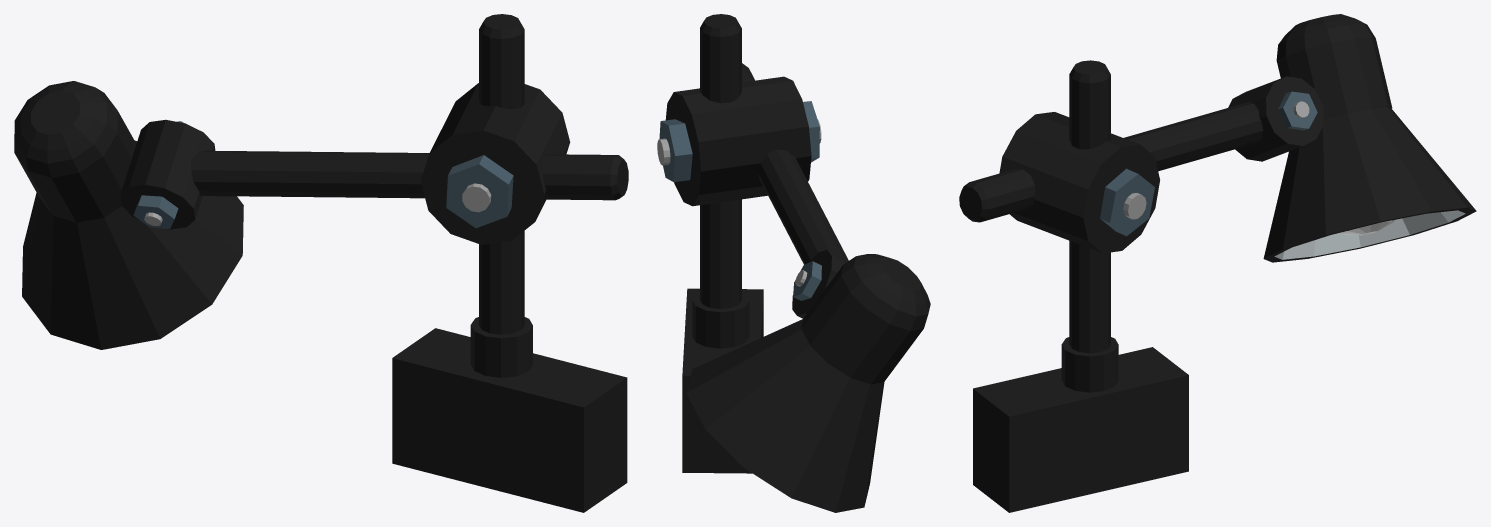
Rendered from group235934381_lev3.003.glb.
3 renders of one model, left to right at view 1: azimuth 30°, elevation 25°; view 2: azimuth 150°, elevation 25°; view 3: azimuth 270°, elevation 25°, orthographic. The views are drawn at different scales.
Parts seen in each view (by area): view 1: group235934381_lev3.003; view 2: group235934381_lev3.003; view 3: group235934381_lev3.003.
Boxes of the visible parts, <box> form: group235934381_lev3.003: <box>14,14,628,512</box>; group235934381_lev3.003: <box>657,14,930,512</box>; group235934381_lev3.003: <box>959,14,1476,512</box>.
Size of the model in its own units: 4.24 by 4.21 by 4.83.
